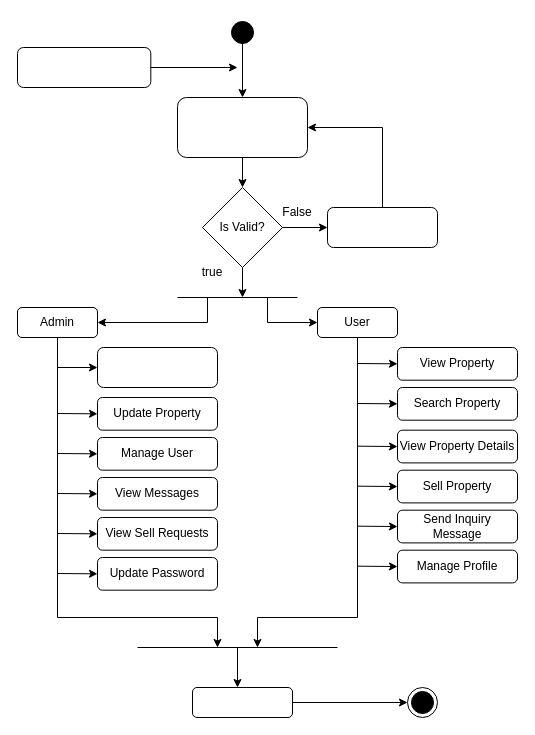
The diagram is 535 pixels wide and 735 high, and some of its shapes have lost their labels. The shapes that lost their labels are listed below. From the top down, each one's centre as x and y in pixels, then its label:
point (83, 67): Registration
point (242, 127): Login with Username and Password
point (382, 227): Invalid Details
point (157, 367): Add / Remove Property
point (242, 702): Logout
